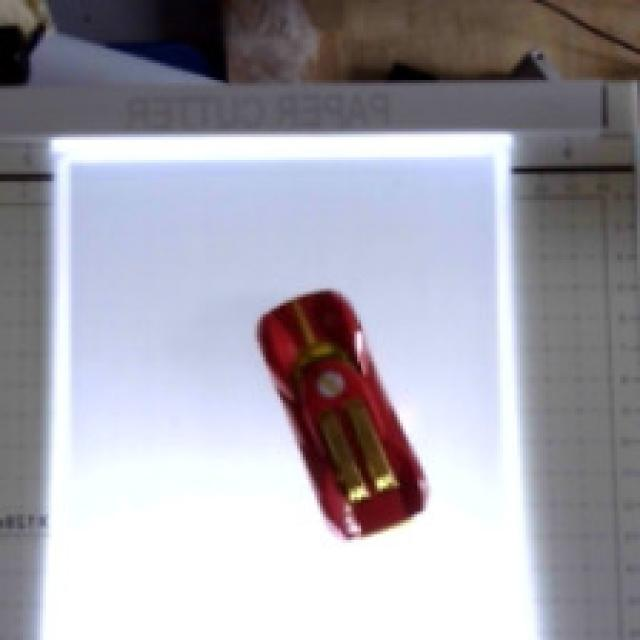Red Car: (226, 265, 478, 572)
